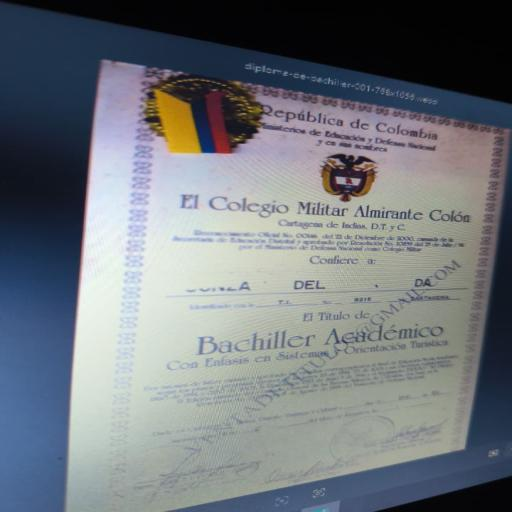bachillerato: (154, 315, 450, 369)
diploma: (67, 62, 508, 511)
escudo: (294, 147, 403, 205)
firma: (100, 443, 277, 501), (337, 416, 460, 456)
institucion: (156, 187, 495, 232)
